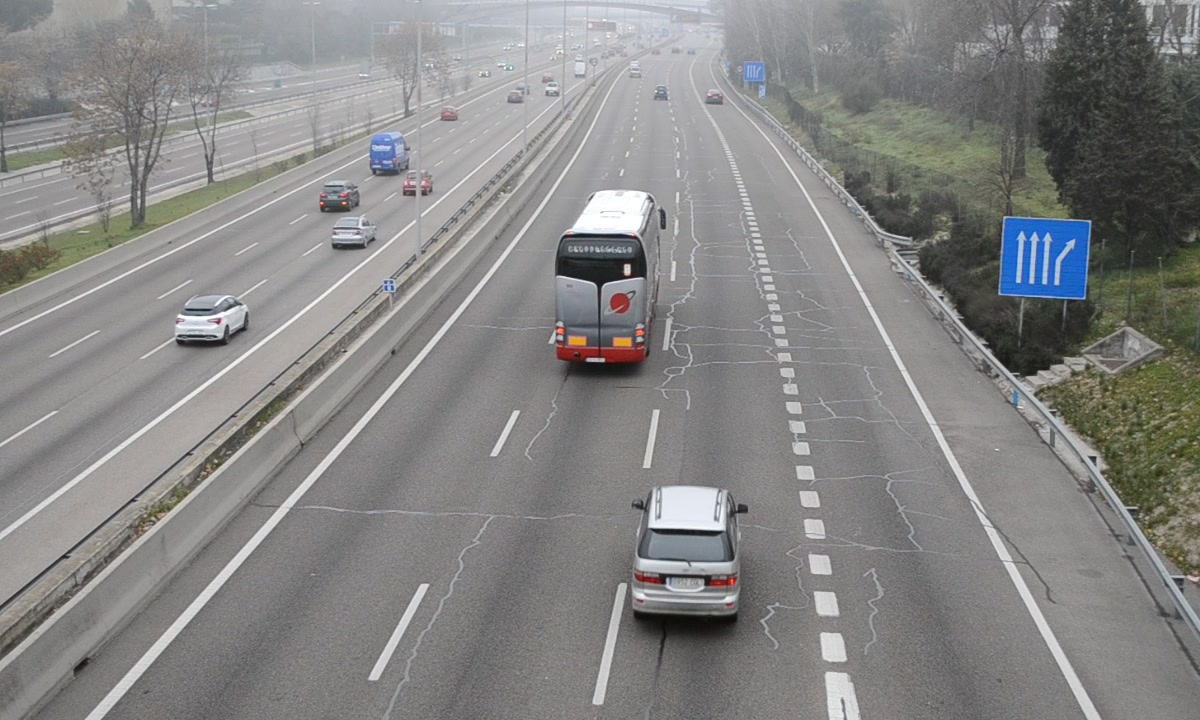bus: (552, 191, 663, 367)
car: (631, 486, 744, 620), (703, 87, 725, 106)
